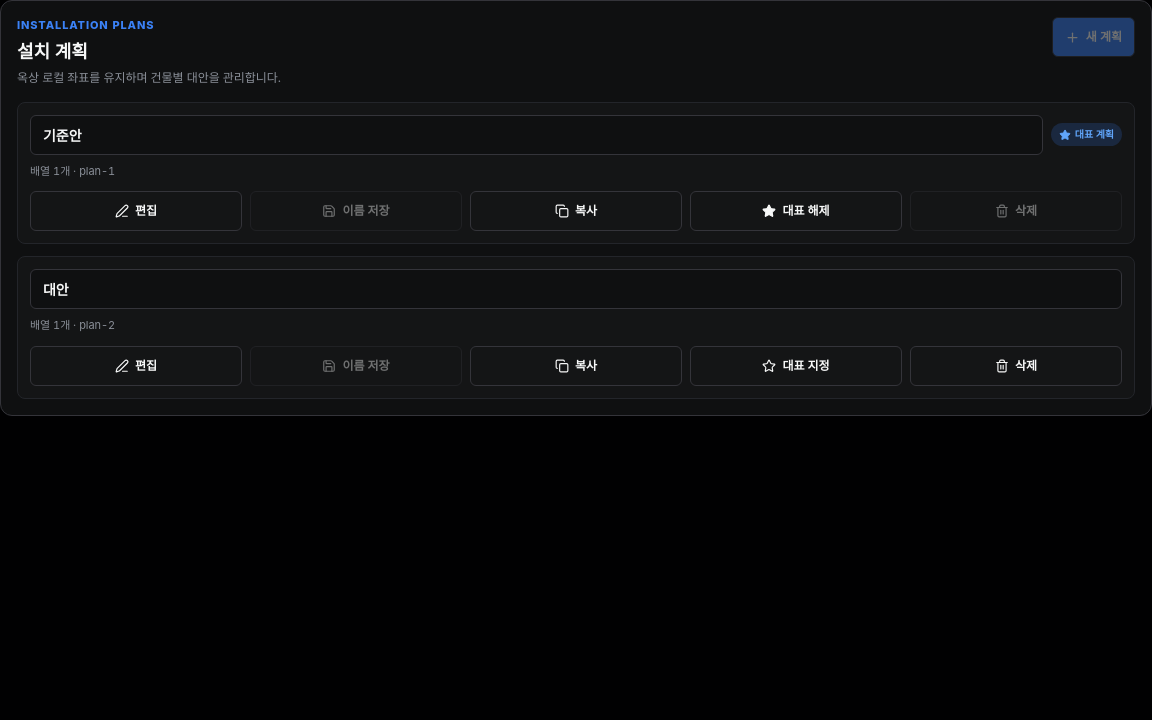
it: InstallationPlanManager › rejects update and copy responses outside the requested plan context
Replace the text in the field named "대안 계획 이름" with "동측 대안" at x=576, y=289, box [30, 269, 1122, 309]
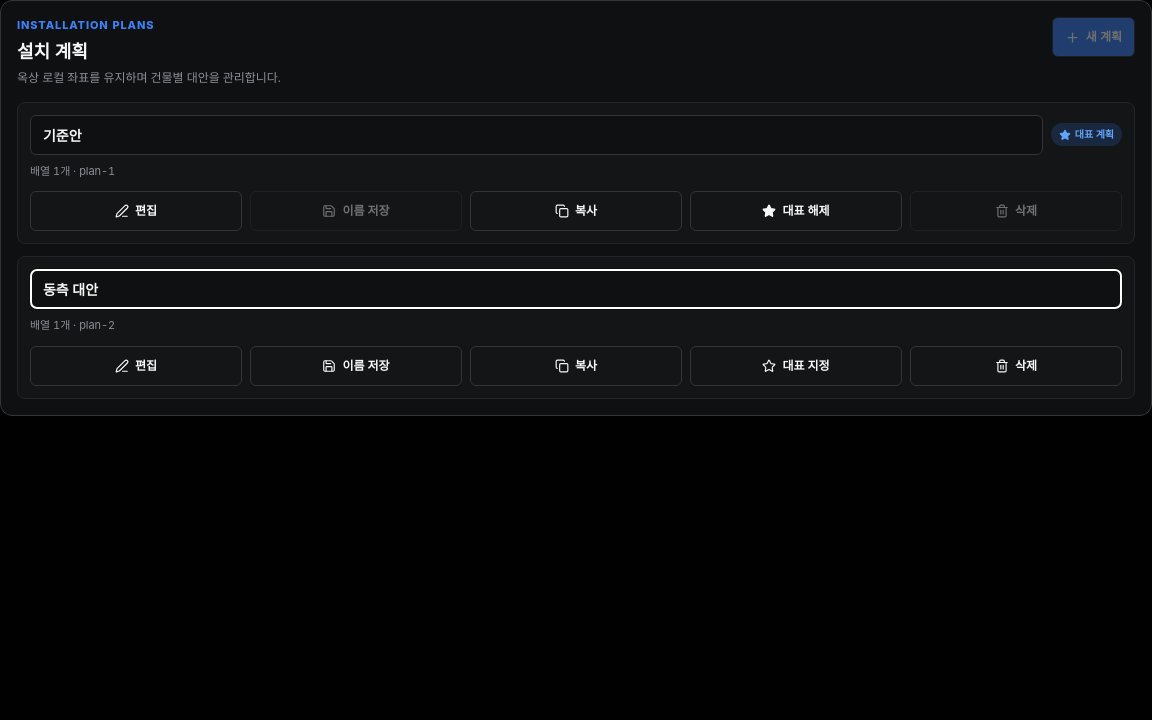
Click the button with aria-label "대안 이름 저장" at x=356, y=366, box [250, 346, 462, 386]
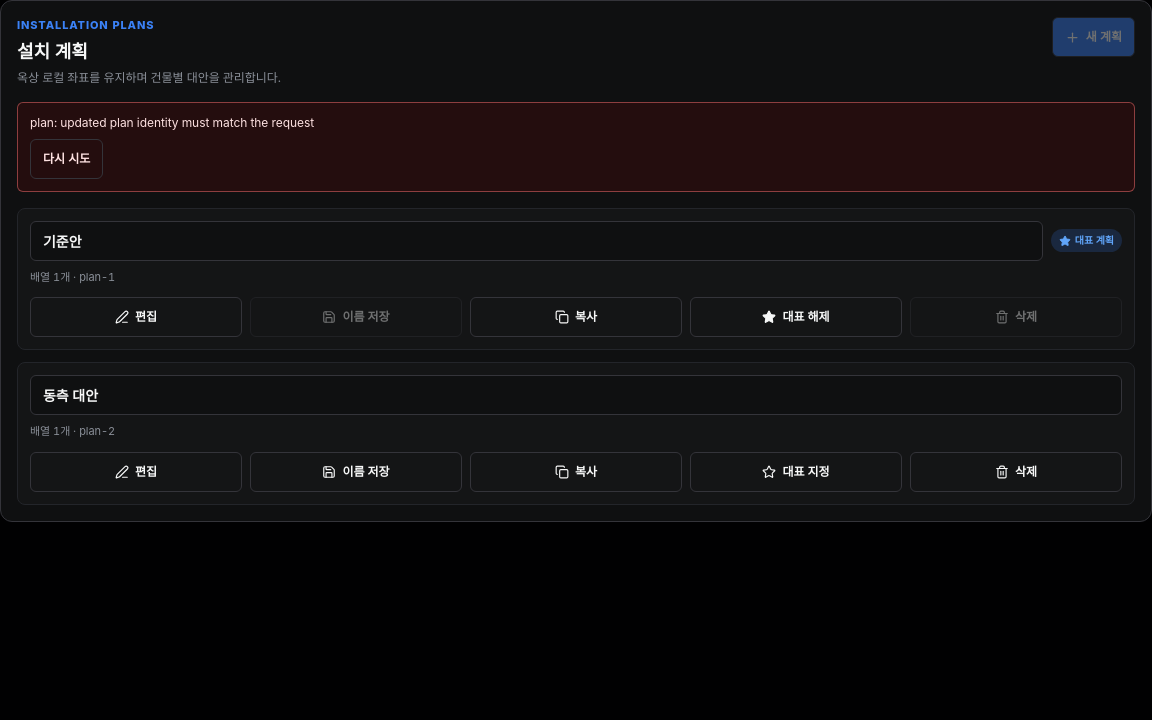
Expected: the message shows "updated plan identity must match", [30, 114, 314, 130]
Click the button with aria-label "기준안 복사" at x=576, y=317, box [470, 297, 682, 337]
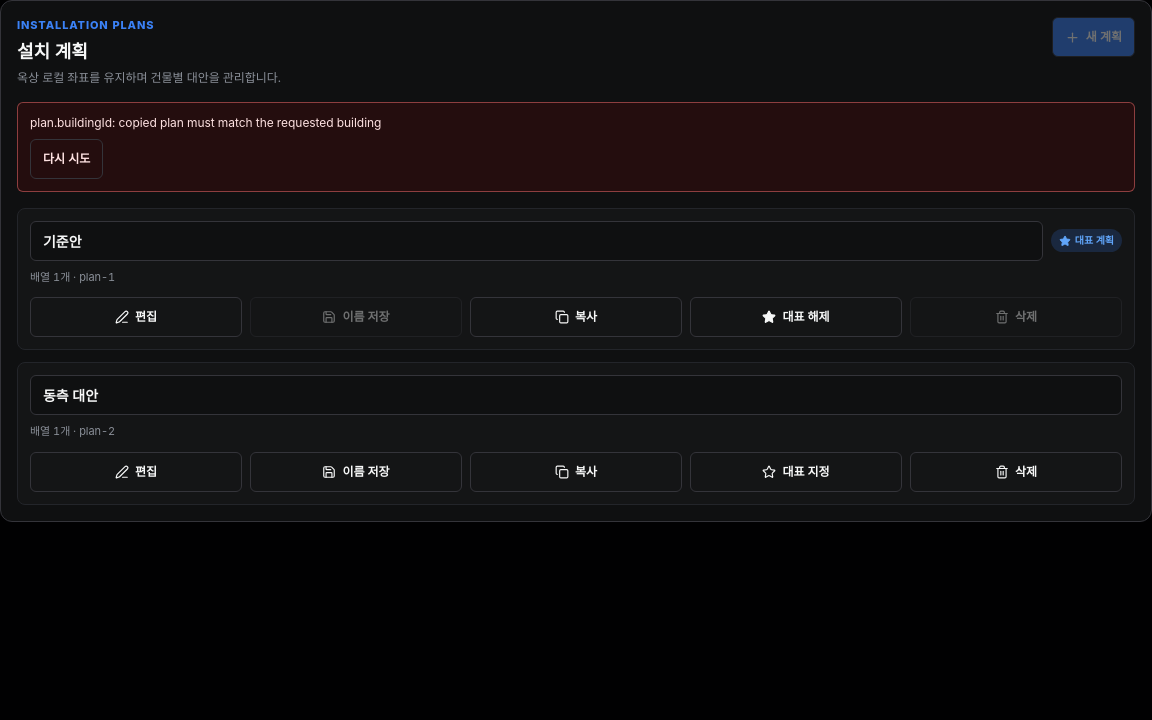
Expected: the message shows "copied plan must match", [30, 114, 381, 130]
